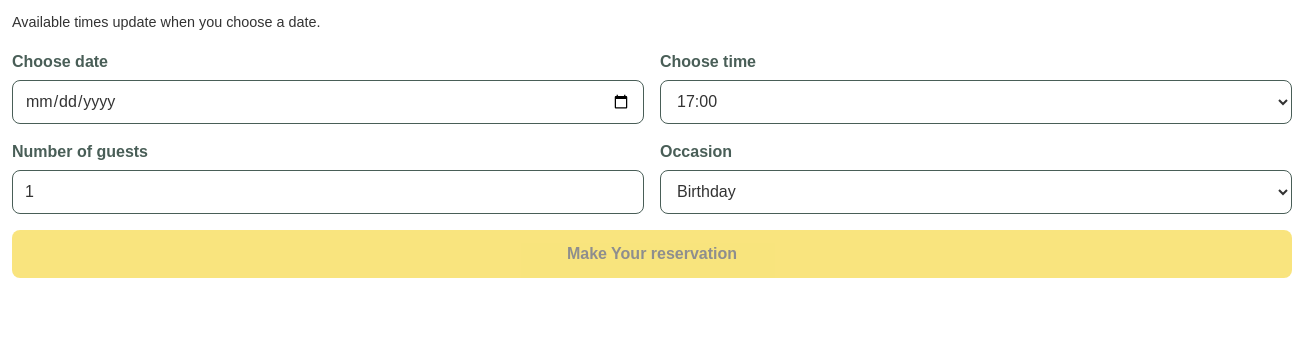
Test: shows validation feedback when a required time or occasion is cleared
Select "" in the dropdown labelled "Choose time". click: (976, 102)
box: [660, 80, 1292, 124]
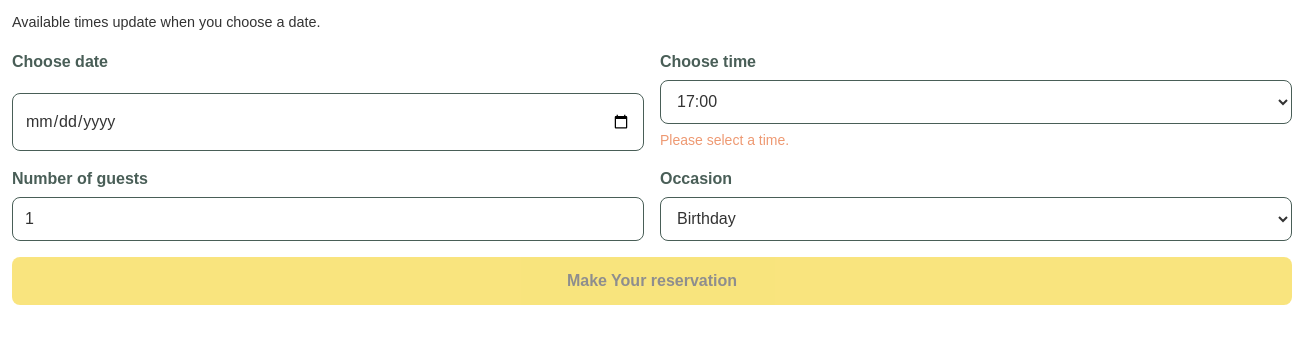
Select "" in the dropdown labelled "Occasion". click: (976, 219)
box: [660, 197, 1292, 241]
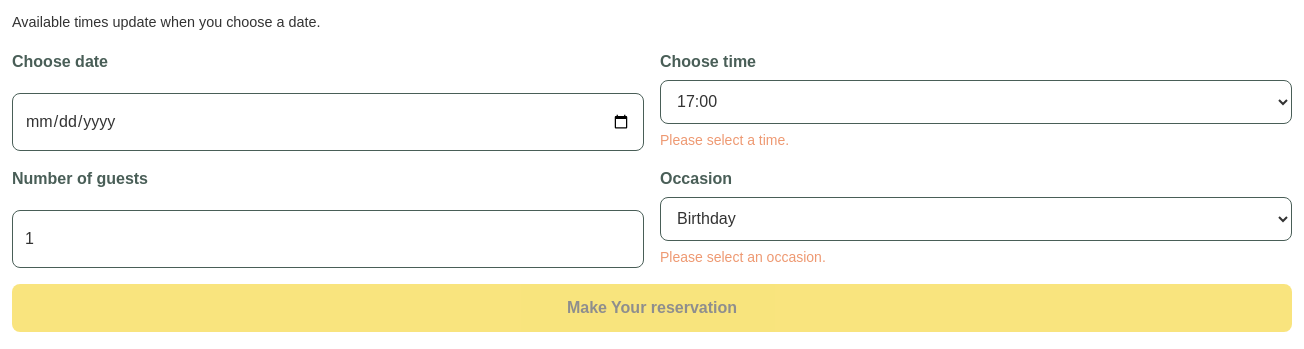
Now the text "Please select a time." is shown, box [660, 132, 789, 148]
Now the text "Please select an occasion." is shown, box [660, 249, 826, 265]
